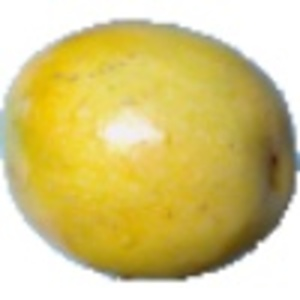maracujá: (1, 18, 300, 284)
